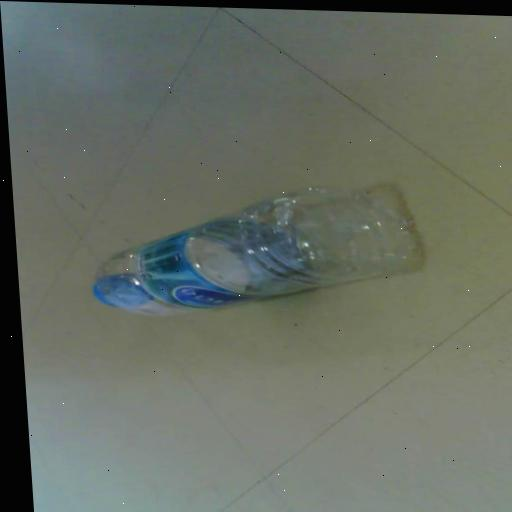bottle: (63, 163, 438, 338)
